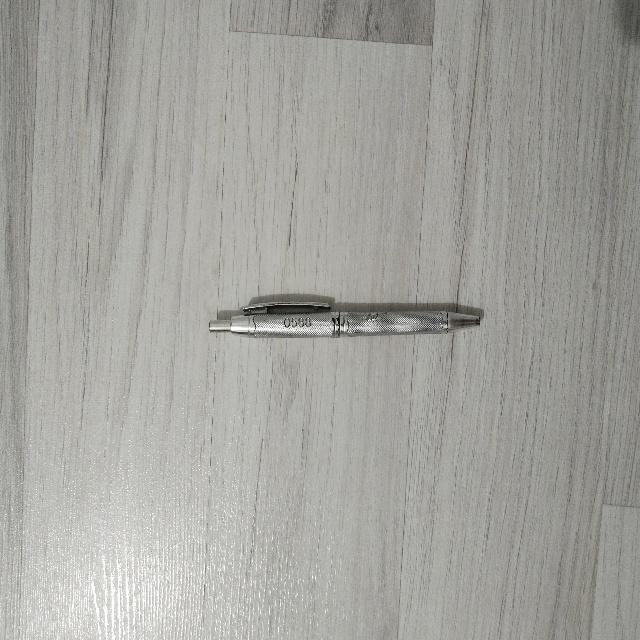signature pen: (209, 302, 479, 337)
